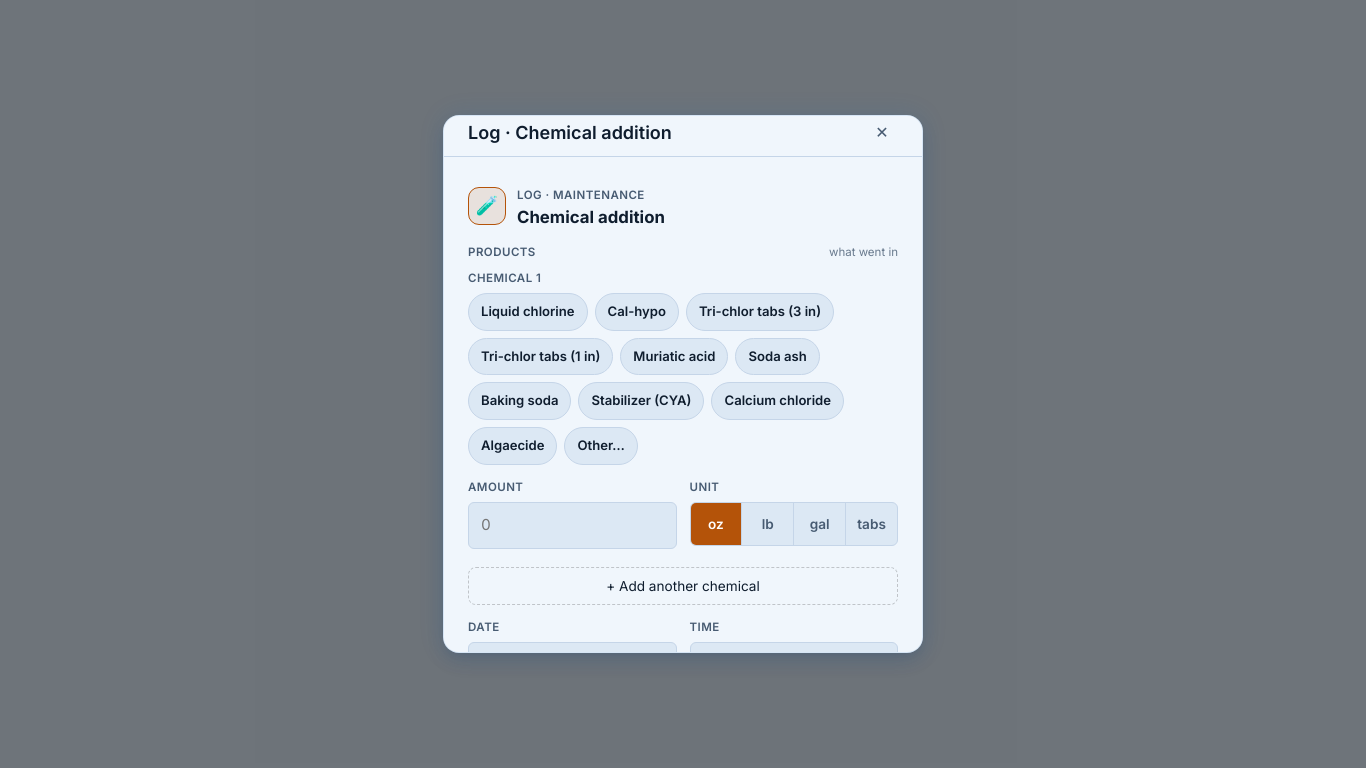
Test: EventLogForm › removes an added chemical row
Click the button "Liquid chlorine" at (528, 312), box [468, 293, 588, 331]
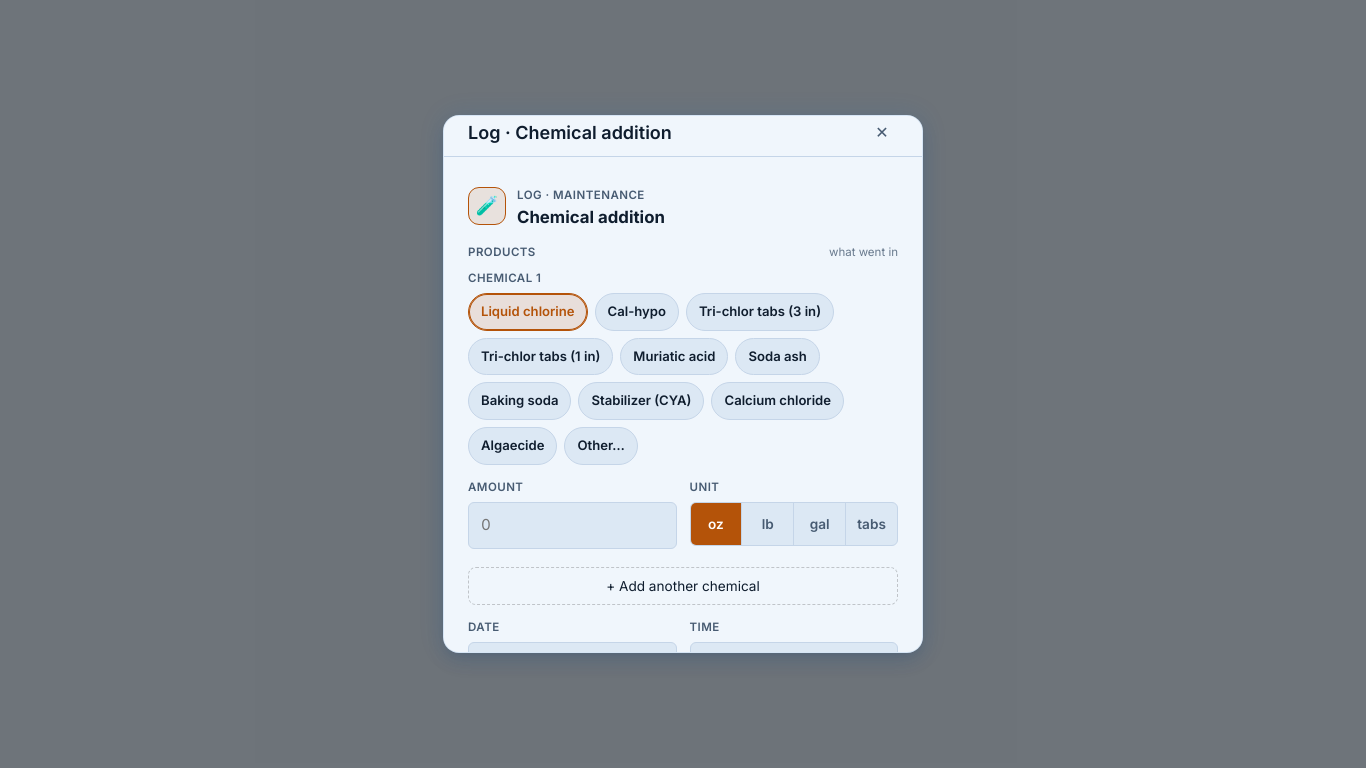
Type "48" into the number field with placeholder "0" at (572, 525), box [468, 502, 676, 549]
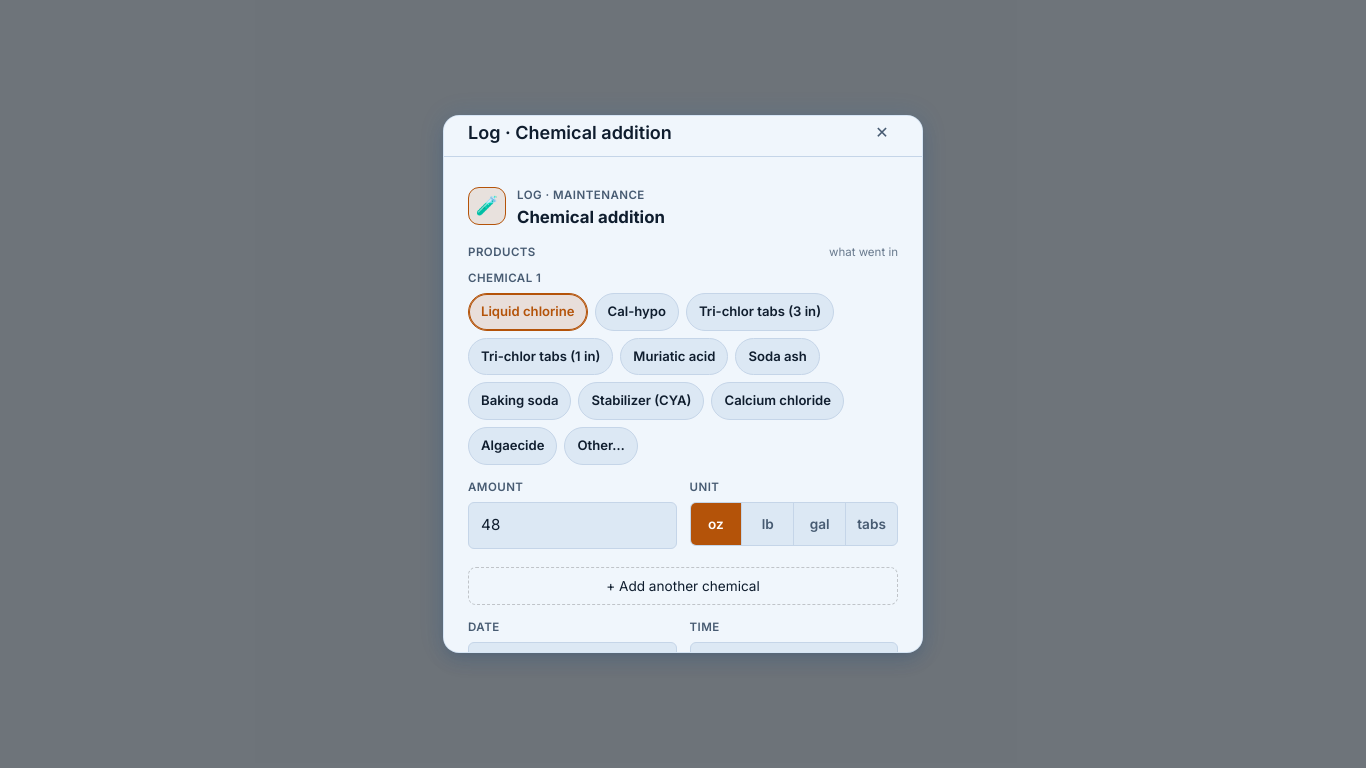
Click the button "+ Add another chemical" at (683, 586), box [468, 567, 898, 605]
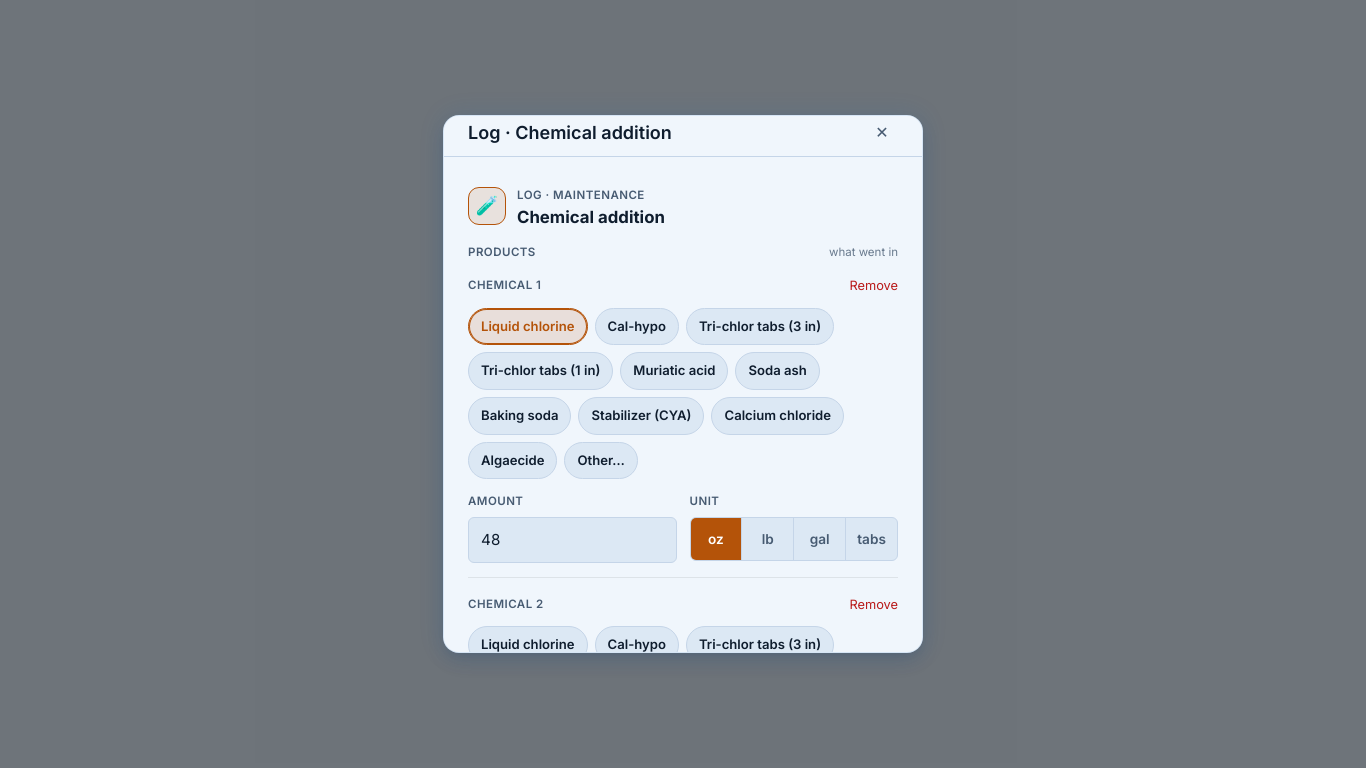
Check: the number of number fields with placeholder "0" is 2
Click the button with aria-label "remove chemical 2" at (874, 604), box [846, 582, 902, 626]
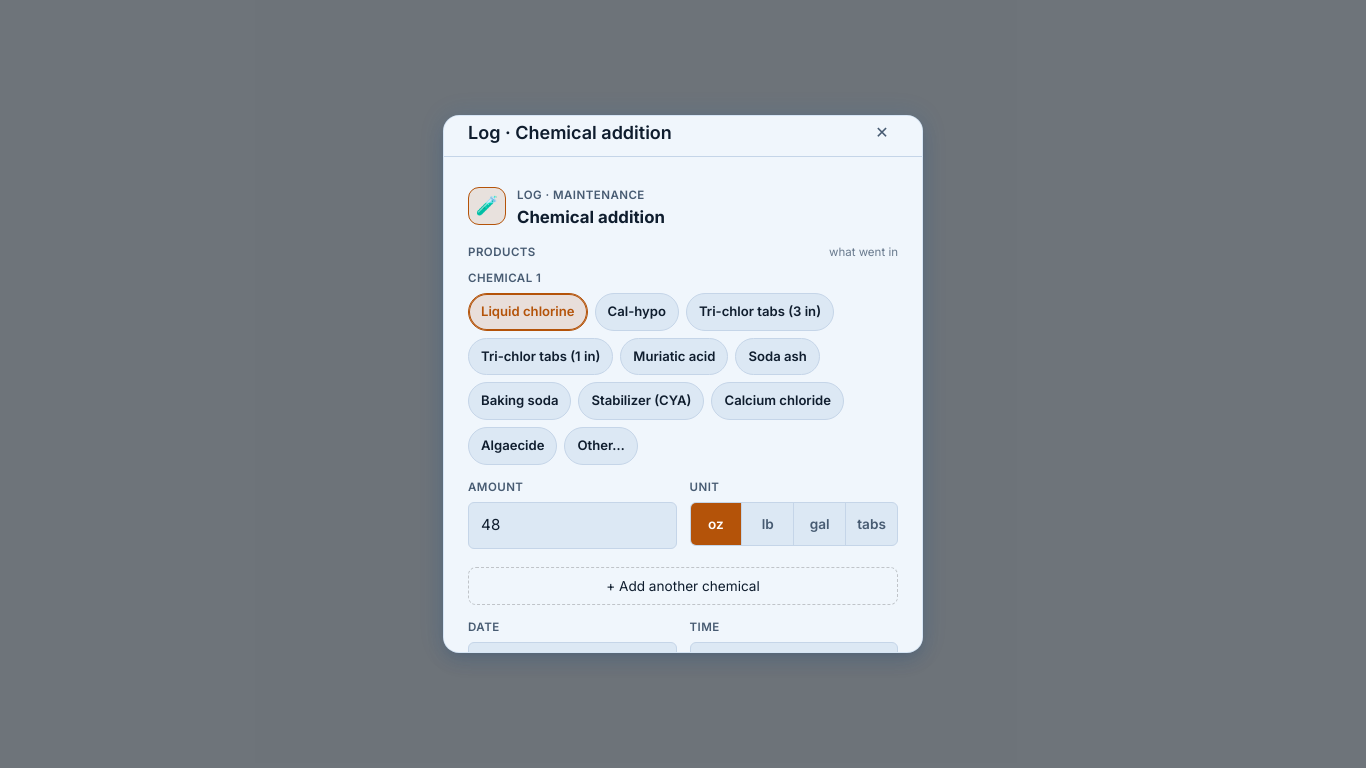
Check: the number of number fields with placeholder "0" is 1, box [468, 502, 676, 549]
